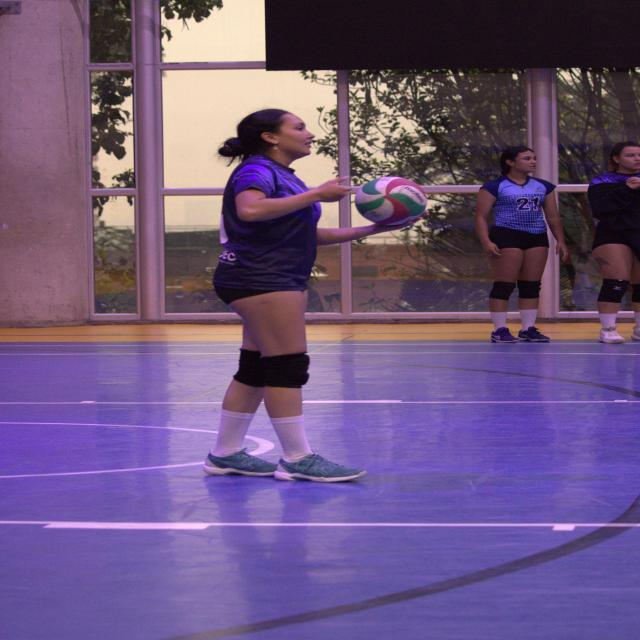volleyball: (354, 174, 429, 223)
